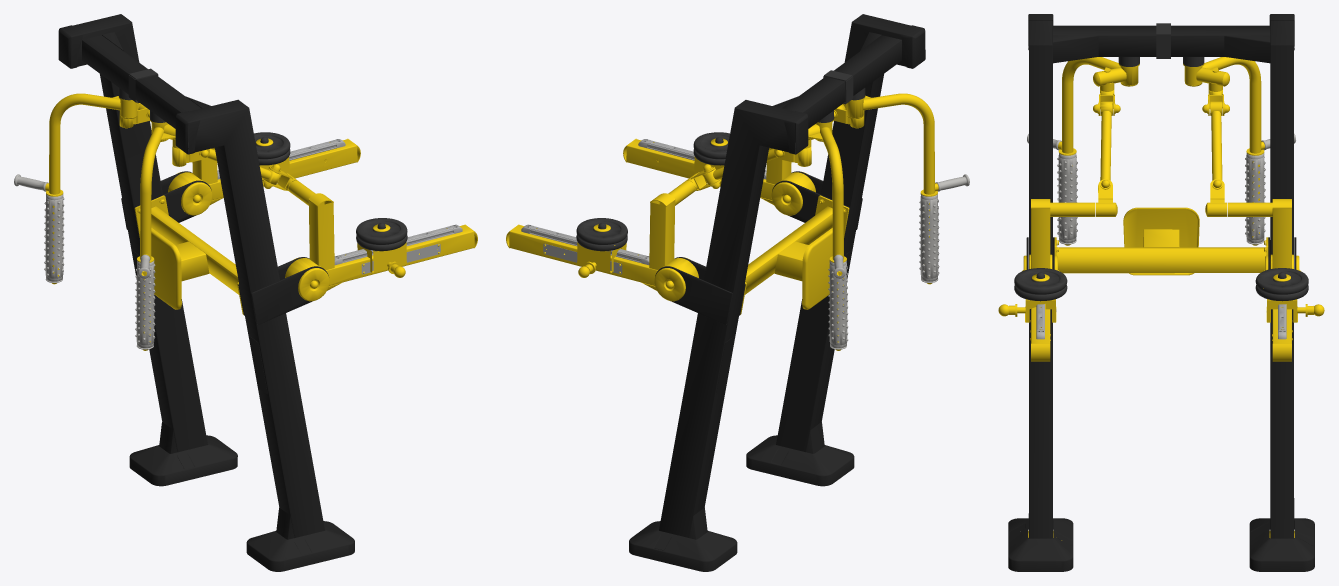
3 renders of one model, left to right at view 1: azimuth 30°, elevation 25°; view 2: azimuth 150°, elevation 25°; view 3: azimuth 270°, elevation 25°, orthographic. The views are drawn at different scales.
Visible parts, largest first — view 1: Geom3D (×4), Geom3D_002.STL#1; view 2: Geom3D (×4), Geom3D_002.STL#1; view 3: Geom3D (×4), Geom3D_002.STL#1.
Part boxes in pixels (box(x1,y1,x2,y2)): Geom3D (×4): box(14, 14, 462, 571); Geom3D_002.STL#1: box(45, 93, 477, 350); Geom3D (×4): box(521, 14, 969, 571); Geom3D_002.STL#1: box(506, 93, 938, 350); Geom3D (×4): box(1008, 14, 1314, 571); Geom3D_002.STL#1: box(998, 57, 1324, 540).
Size of the model in its own units: 1.67 by 2.18 by 1.35.
